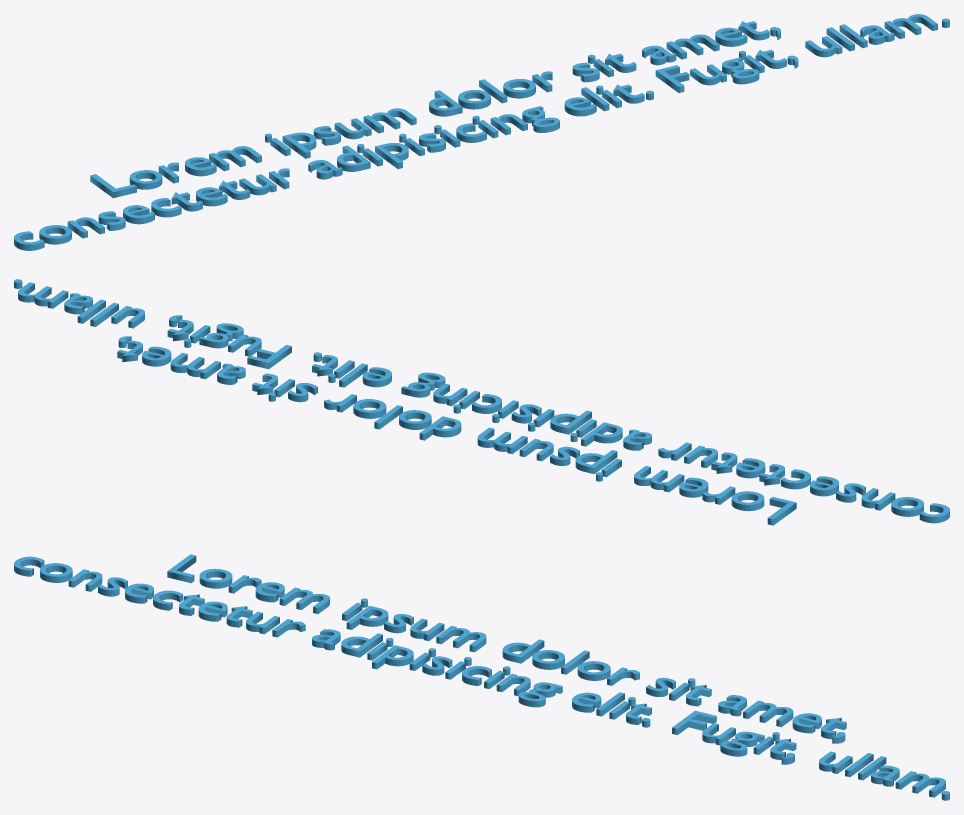
File: txt.glb
3 views of the same model, one above another, from view 1: azimuth 30°, elevation 25°; view 2: azimuth 150°, elevation 25°; view 3: azimuth 330°, elevation 25° (orthographic).
Parts seen in each view (by area): view 1: Text; view 2: Text; view 3: Text.
Part boxes in pixels (box(x1,y1,x2,y2)): Text: box(14, 14, 949, 250); Text: box(14, 279, 949, 525); Text: box(14, 554, 949, 800).
Size of the model in its own units: 15.91 by 0.1 by 1.91.
